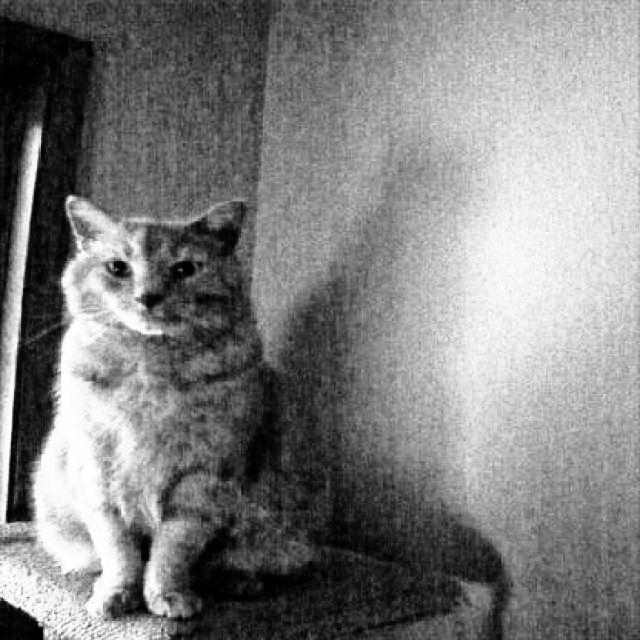Cat: (25, 182, 331, 625)
